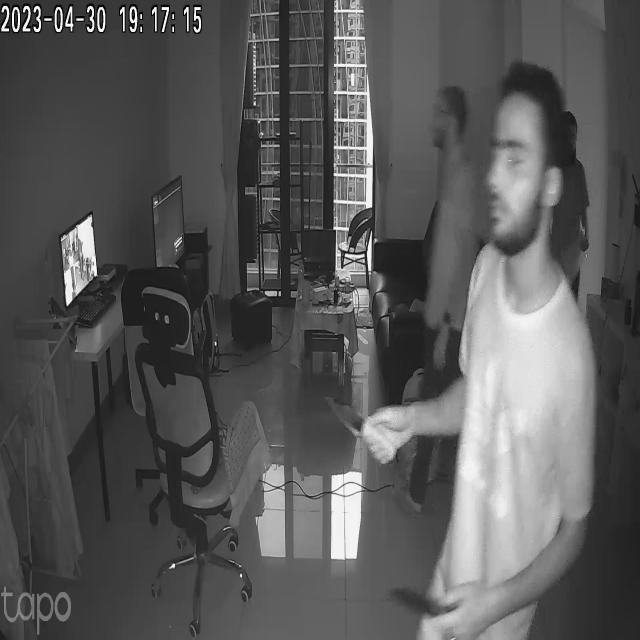Knife: (328, 387, 396, 461)
